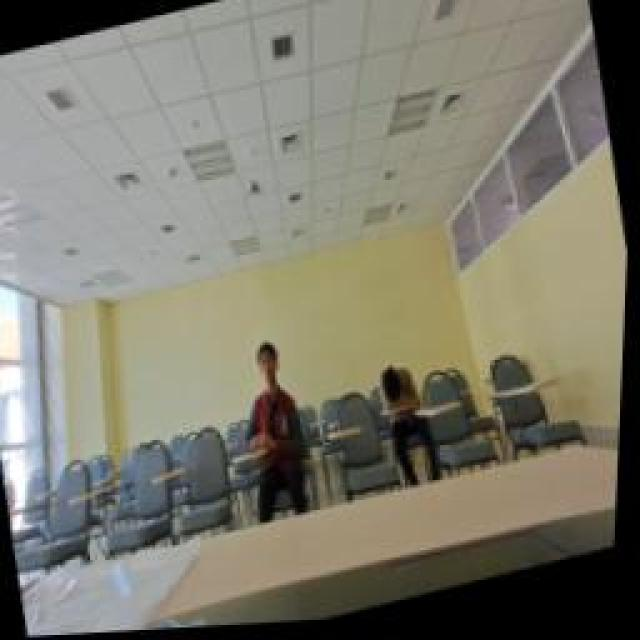sleep: (378, 363, 430, 425)
study: (230, 340, 312, 458)
